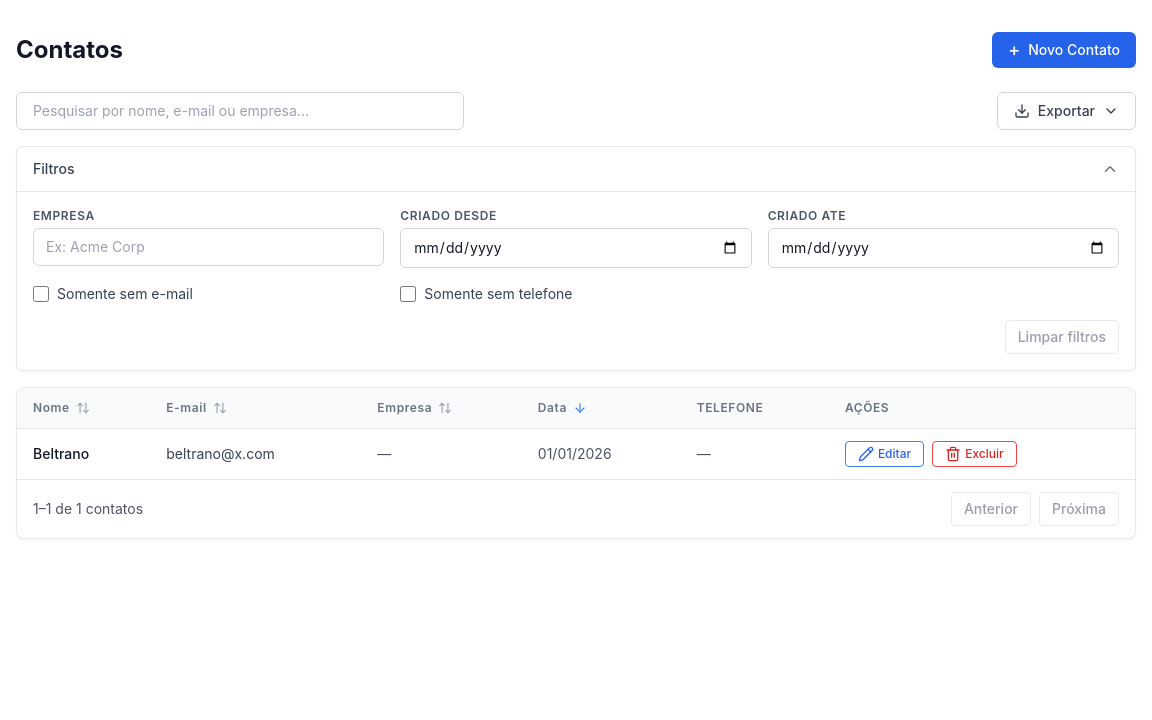
Scenario: ContatosPage — exclusão › exibe modal de confirmação ao clicar em Excluir
The width and height of the screenshot is (1152, 720).
Expected: the text "Beltrano" is shown, [17,428,150,479]
Click the button "Excluir": point(974, 454) [932,441,1017,467]
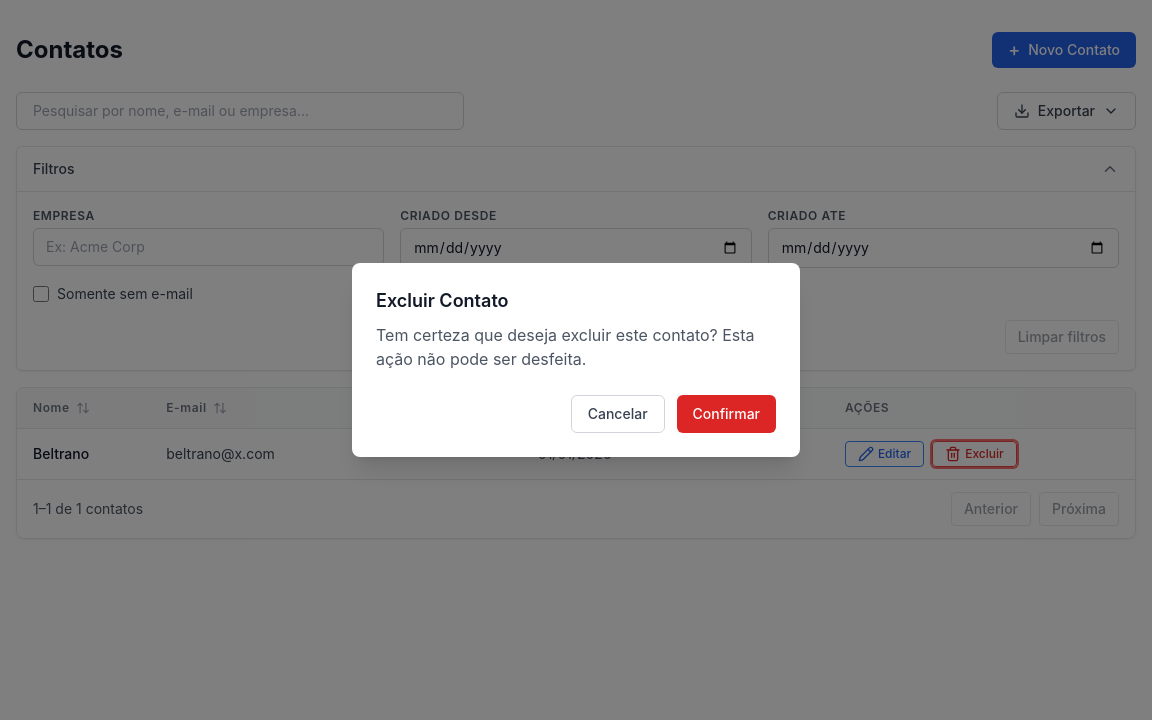
Result: the text "Tem certeza" is shown at [376,325,755,369]
